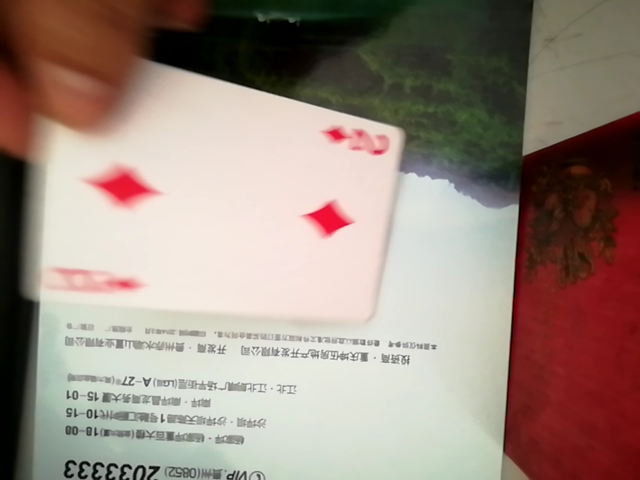fk 2: (29, 55, 405, 327)
